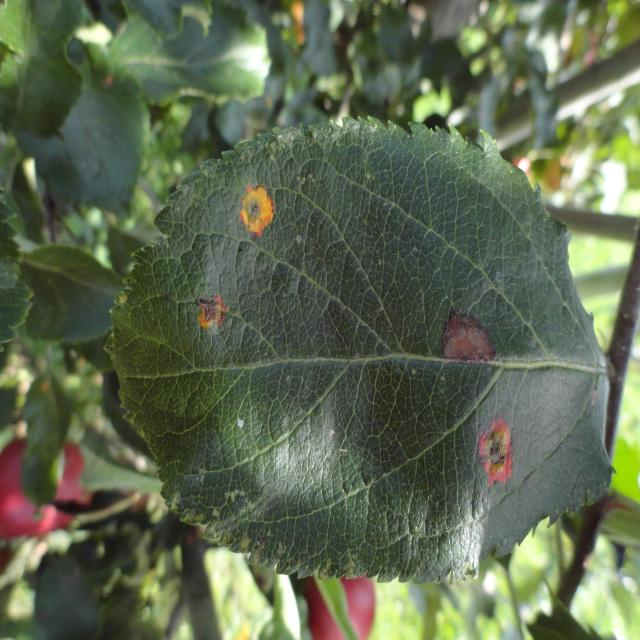Rust: (471, 408, 524, 500), (235, 185, 278, 248), (195, 286, 228, 336)
